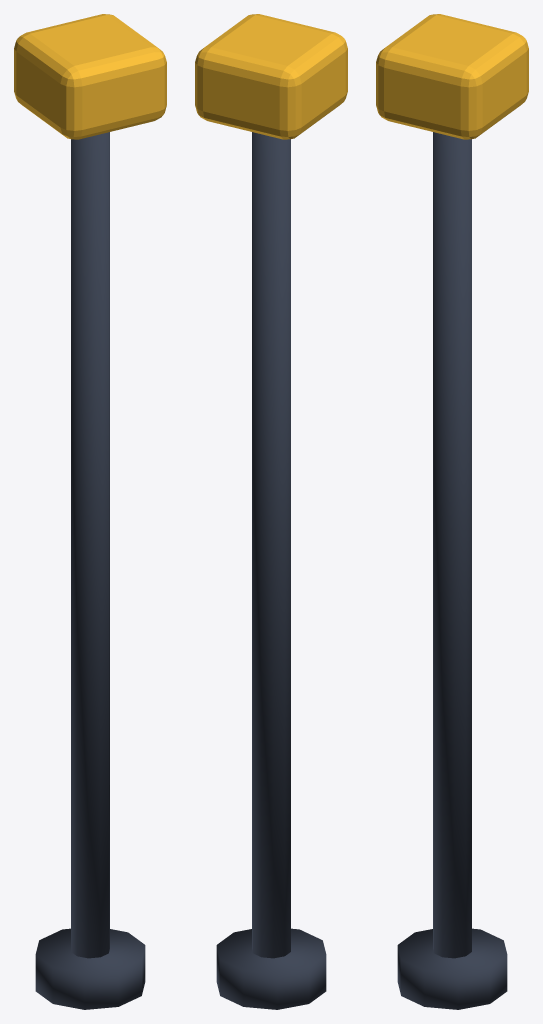
Rendered from lamp.glb.
3 renders of one model, left to right at view 1: azimuth 30°, elevation 25°; view 2: azimuth 150°, elevation 25°; view 3: azimuth 330°, elevation 25°, orthographic.
Parts seen in each view (by area): view 1: lamp, lamp_head, lamp_base; view 2: lamp, lamp_head, lamp_base; view 3: lamp, lamp_head, lamp_base.
Boxes of the visible parts, x1,y1,x2,y2 form: lamp: [71, 132, 109, 958]; lamp_head: [14, 14, 166, 139]; lamp_base: [35, 928, 145, 1009]; lamp: [252, 132, 290, 958]; lamp_head: [195, 14, 347, 139]; lamp_base: [216, 928, 326, 1009]; lamp: [433, 132, 471, 958]; lamp_head: [376, 14, 528, 139]; lamp_base: [397, 928, 507, 1009].
Bounding box in the file's own units: 0.3 × 2.6 × 0.3.
